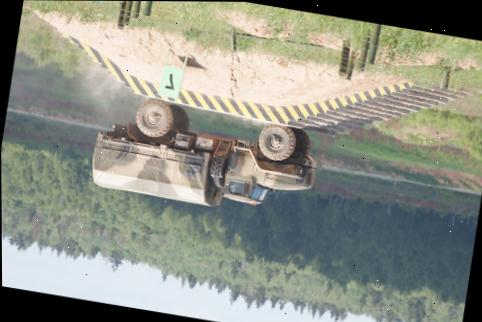truck: (86, 89, 327, 222)
